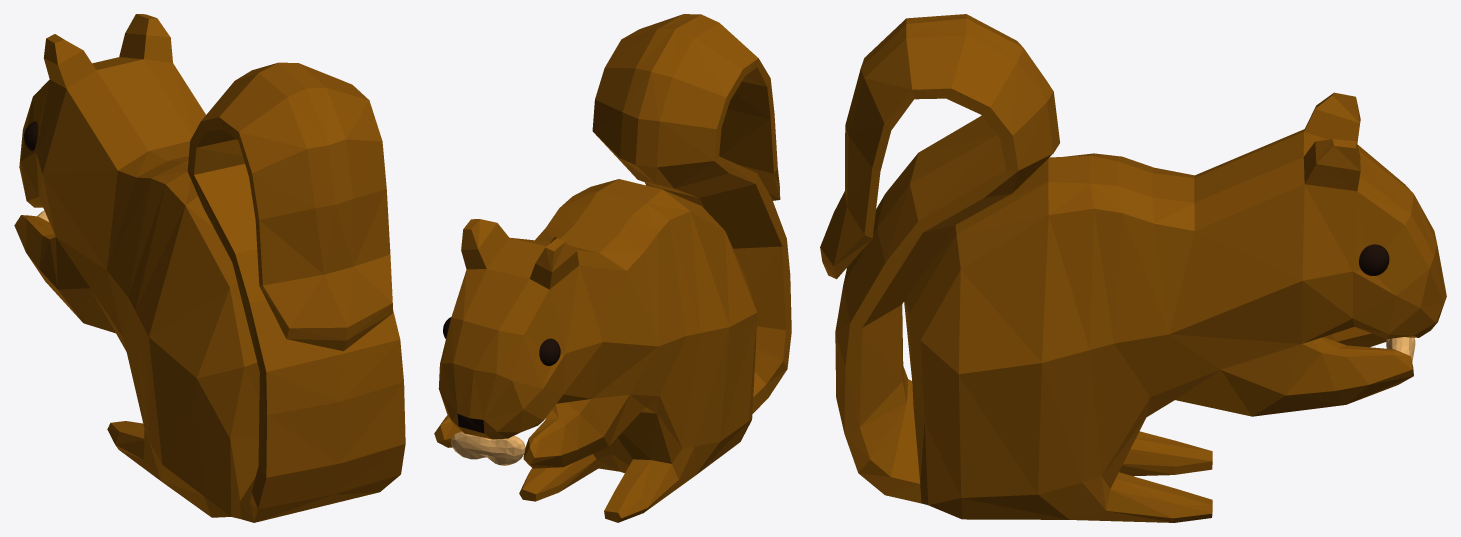
The model's file is squirrel_1.fbx.
3 views of the same model, side by side, from view 1: azimuth 30°, elevation 25°; view 2: azimuth 150°, elevation 25°; view 3: azimuth 270°, elevation 25° (orthographic). The views are drawn at different scales.
Visible parts, largest first — view 1: squarrel; view 2: squarrel; view 3: squarrel.
Boxes of the visible parts, <box> form: squarrel: <box>14,14,405,522</box>; squarrel: <box>434,14,791,522</box>; squarrel: <box>820,14,1446,522</box>.
Size of the model in its own units: 49.31 by 111 by 133.
